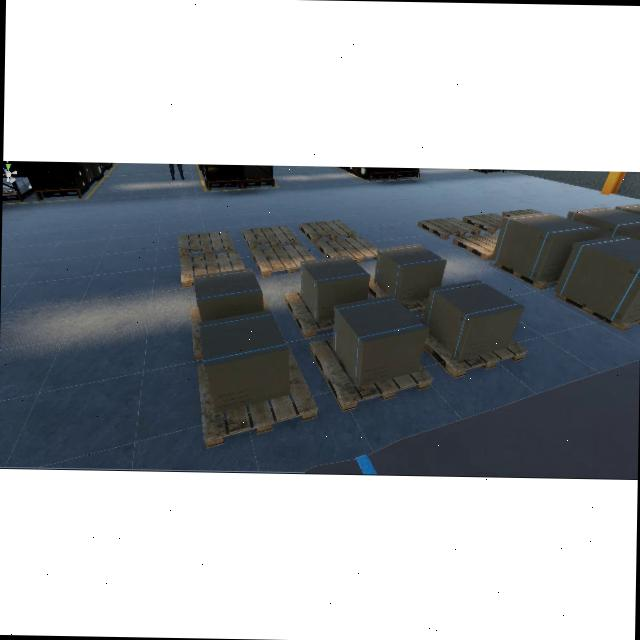wooden_pallet: (196, 344, 319, 448), (308, 336, 433, 412), (420, 315, 529, 378), (553, 290, 639, 331), (179, 247, 247, 287), (283, 291, 335, 337), (251, 242, 316, 277), (493, 259, 561, 290), (177, 229, 235, 259), (241, 222, 299, 251), (416, 215, 481, 240), (316, 237, 378, 263), (297, 219, 356, 244), (451, 232, 498, 261), (461, 212, 506, 234)
